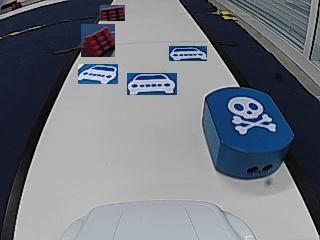danger: (229, 98, 272, 135)
